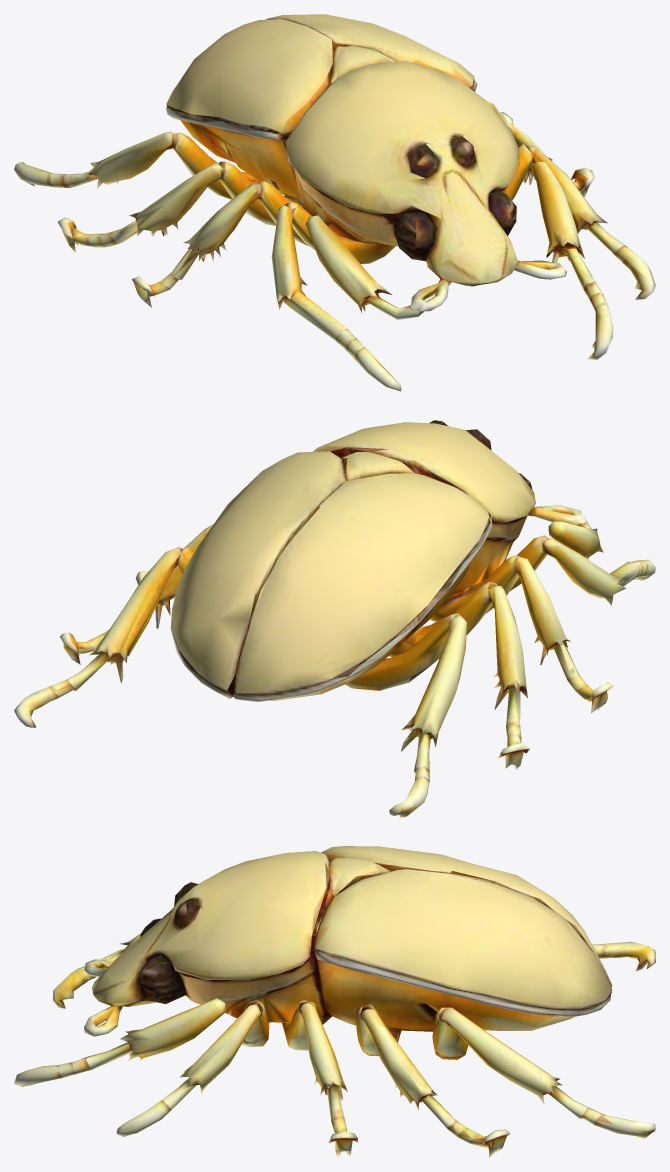
The model's file is scarab.glb.
3 views of the same model, one above another, from view 1: azimuth 30°, elevation 25°; view 2: azimuth 150°, elevation 25°; view 3: azimuth 270°, elevation 25° (orthographic). The views are drawn at different scales.
Visible parts, largest first — view 1: scarab; view 2: scarab; view 3: scarab.
Part boxes in pixels (bbox=[...]): scarab: bbox=[14, 14, 655, 391]; scarab: bbox=[14, 420, 655, 817]; scarab: bbox=[14, 846, 655, 1157].
Bounding box in the file's own units: 0.799 × 0.3362 × 1.
1 material, 1 textured.
